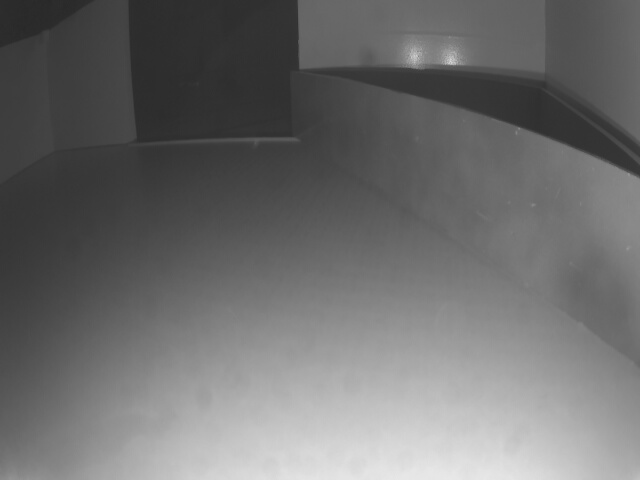Green: (287, 71, 640, 368)
